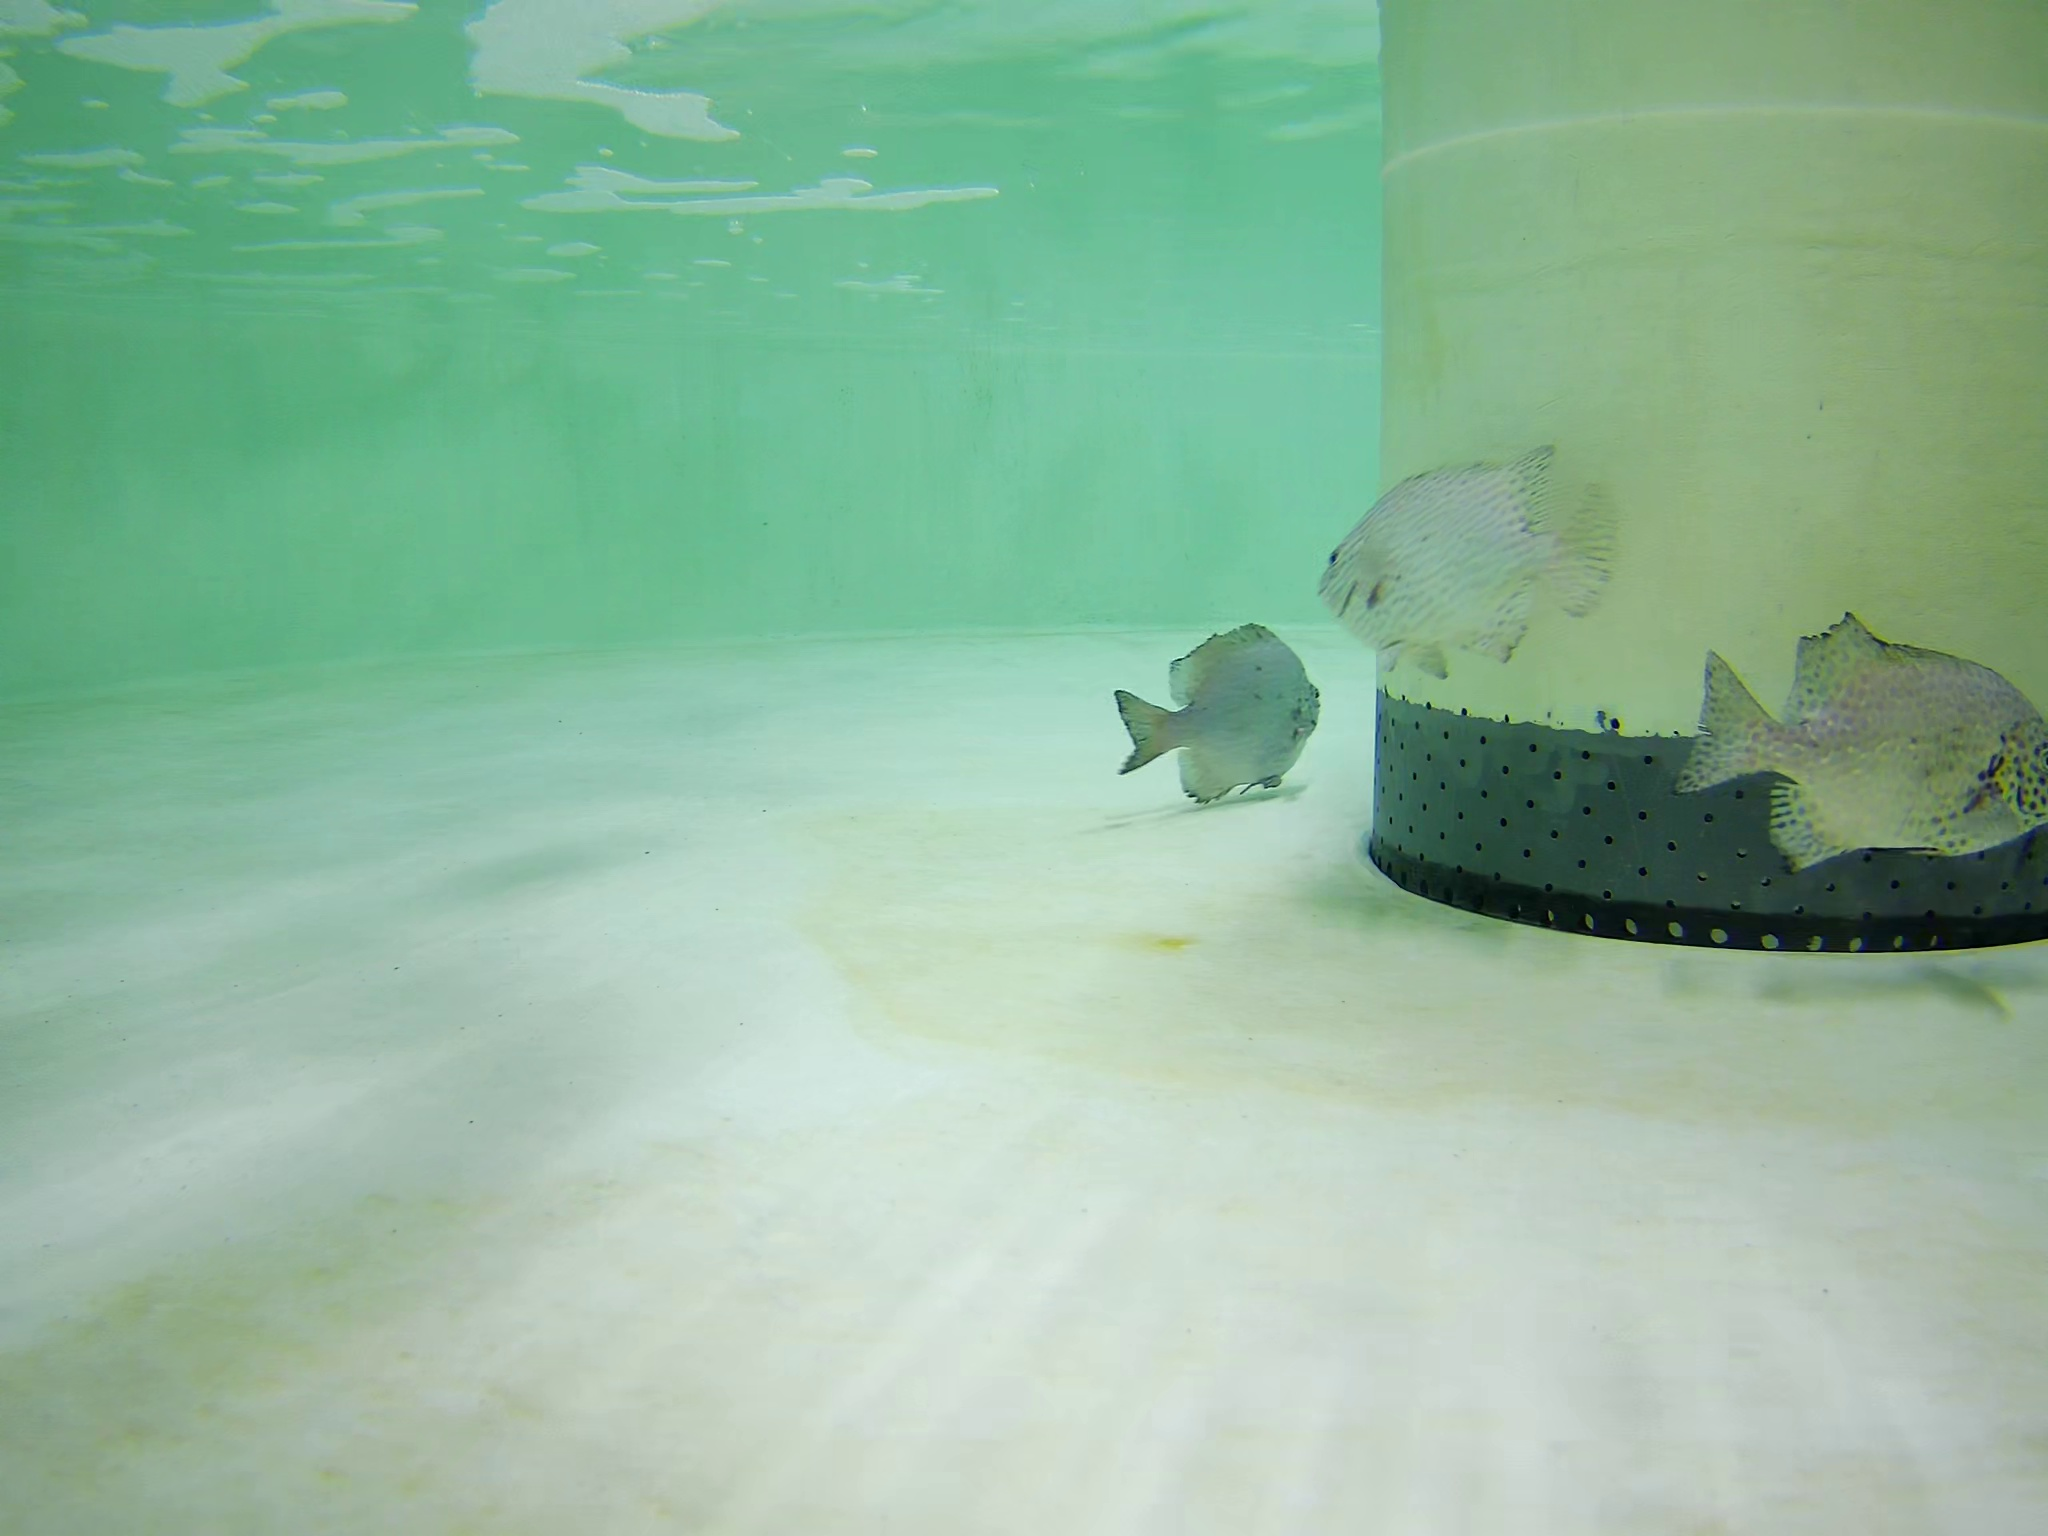fish: (1685, 616, 2048, 878), (1308, 449, 1627, 674), (1118, 620, 1330, 797)
